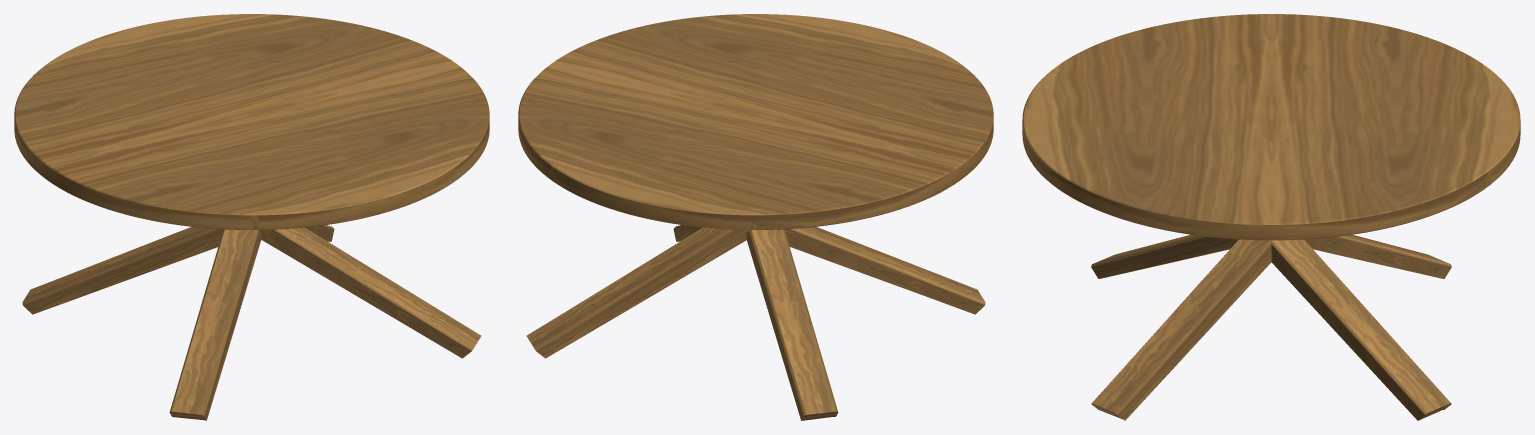
The model's file is round-elm.glb.
The picture shows the model from 3 angles, left to right: view 1: azimuth 30°, elevation 25°; view 2: azimuth 150°, elevation 25°; view 3: azimuth 270°, elevation 25°; orthographic projection. The views are drawn at different scales.
Parts seen in each view (by area): view 1: Wood_Round, Base_Round; view 2: Wood_Round, Base_Round; view 3: Wood_Round, Base_Round.
Boxes of the visible parts, box(x1,y1,x2,y2) form: Wood_Round: box(14, 14, 489, 229); Base_Round: box(22, 225, 481, 420); Wood_Round: box(518, 14, 993, 229); Base_Round: box(526, 225, 985, 420); Wood_Round: box(1022, 14, 1520, 240); Base_Round: box(1091, 234, 1451, 420).
Size of the model in its own units: 1.52 by 0.762 by 1.52.
Materials: 1 (1 with a texture image).
